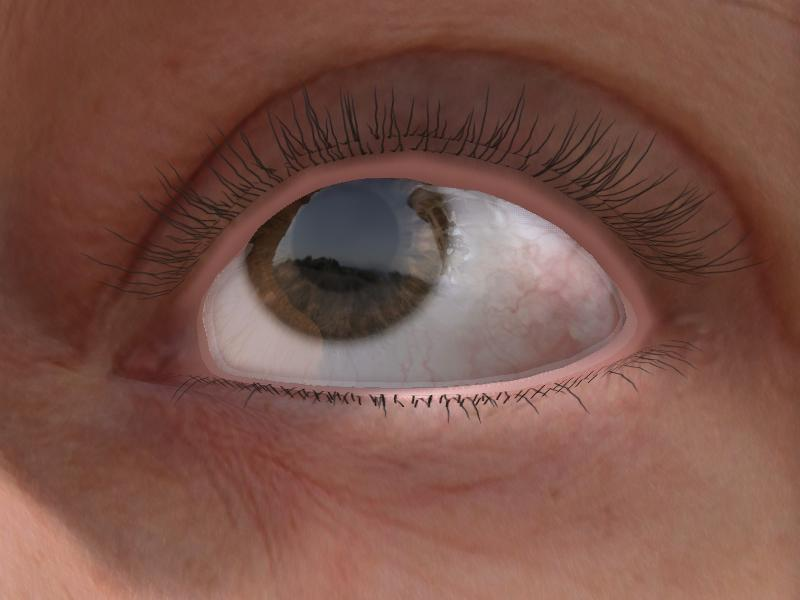eye: (247, 175, 452, 346)
